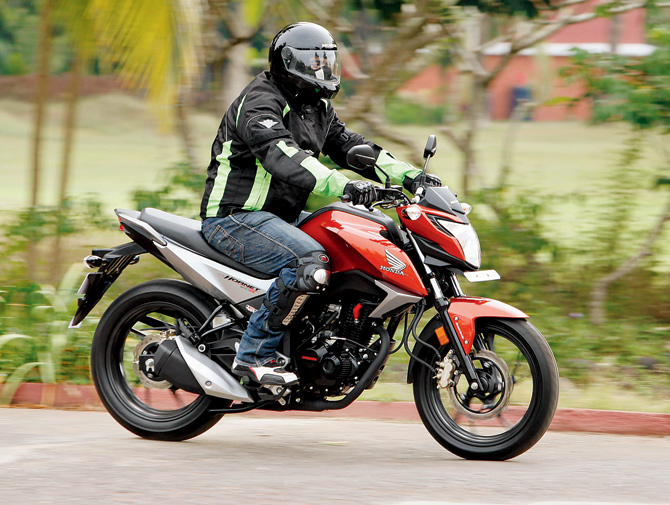helmet: (266, 27, 344, 93)
